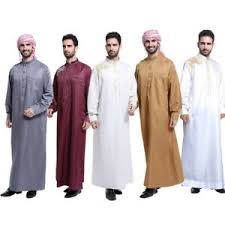middle_eastern_male: (105, 32, 124, 55)
